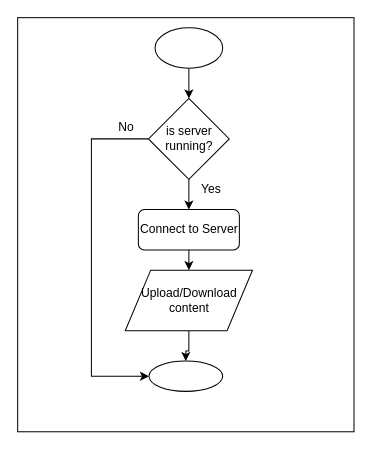
Image size: 372x449. Some labels were removed from this diagram. The centre of each missing label's shape, as x and y in pixels:
"Start" belongs at point (188, 47).
"Stop" belongs at point (185, 375).
